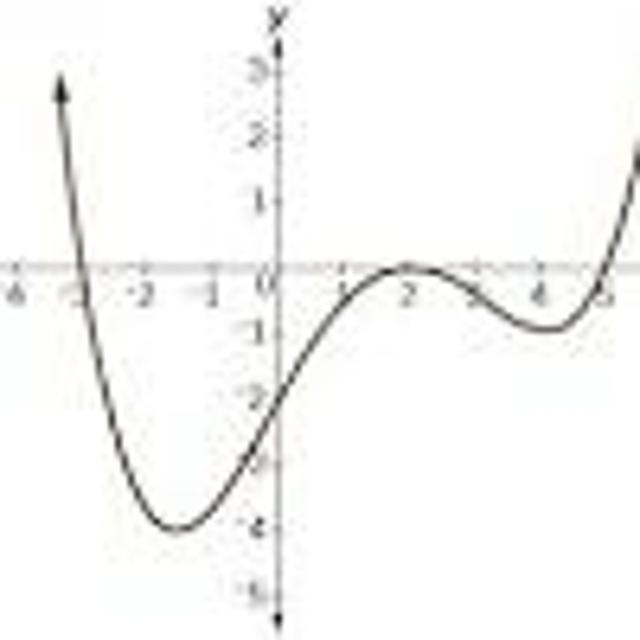axis: (1, 256, 640, 275), (270, 22, 289, 640)
line: (52, 71, 639, 541)
